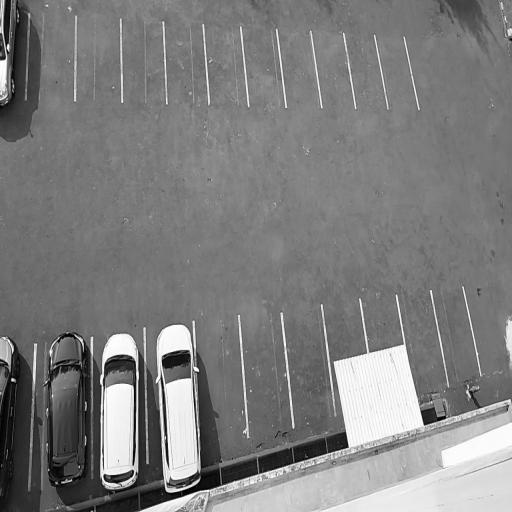Car: (152, 318, 205, 494), (96, 329, 143, 498), (42, 326, 89, 487), (0, 330, 22, 509), (0, 0, 21, 110)
Space Available: (194, 315, 246, 448), (240, 313, 292, 436), (282, 305, 335, 425), (432, 286, 483, 387), (397, 292, 446, 392), (26, 11, 74, 102), (76, 13, 122, 102), (204, 23, 249, 106), (122, 18, 167, 101), (165, 21, 208, 104), (242, 26, 286, 107), (277, 29, 321, 107), (312, 30, 355, 108), (375, 34, 419, 109), (345, 32, 387, 108), (322, 298, 368, 363), (360, 294, 404, 351)
